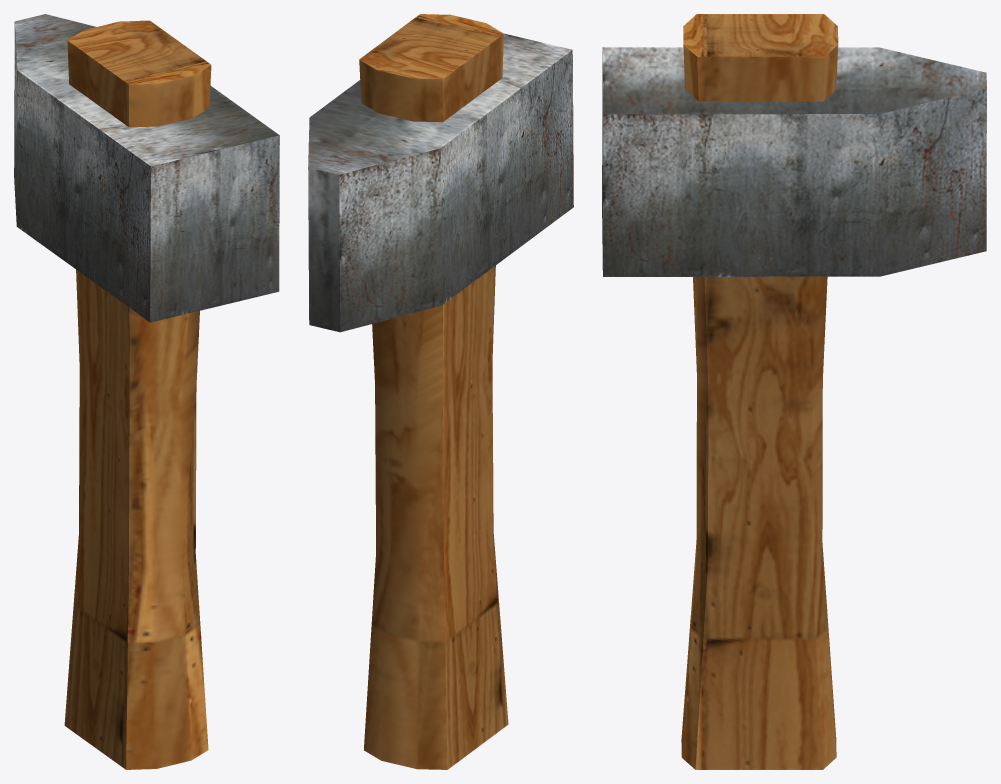
Rendered from hammerWorker.FBX.
3 renders of one model, left to right at view 1: azimuth 30°, elevation 25°; view 2: azimuth 150°, elevation 25°; view 3: azimuth 270°, elevation 25°, orthographic. The views are drawn at different scales.
Visible parts, largest first — view 1: hammer; view 2: hammer; view 3: hammer.
Boxes of the visible parts, bbox=[...] form: hammer: bbox=[14, 14, 279, 769]; hammer: bbox=[308, 14, 573, 769]; hammer: bbox=[602, 14, 986, 769].
Size of the model in its own units: 16.53 by 40.09 by 82.28.
